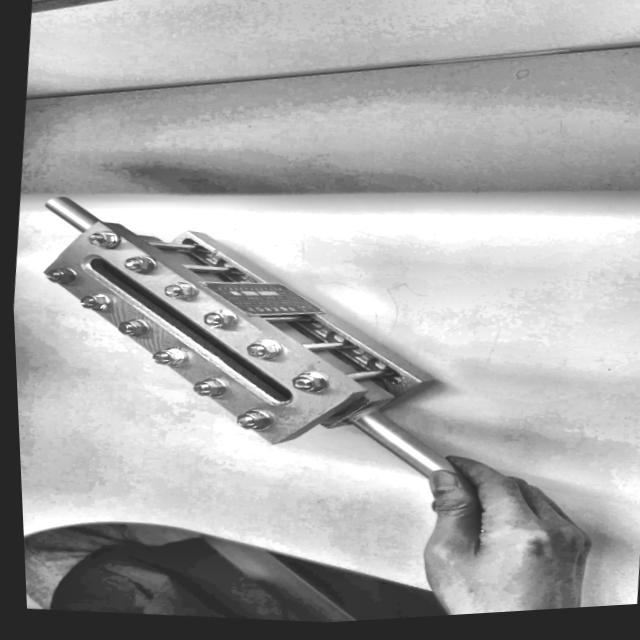ShuiWeiQi_12: (7, 166, 456, 523)
